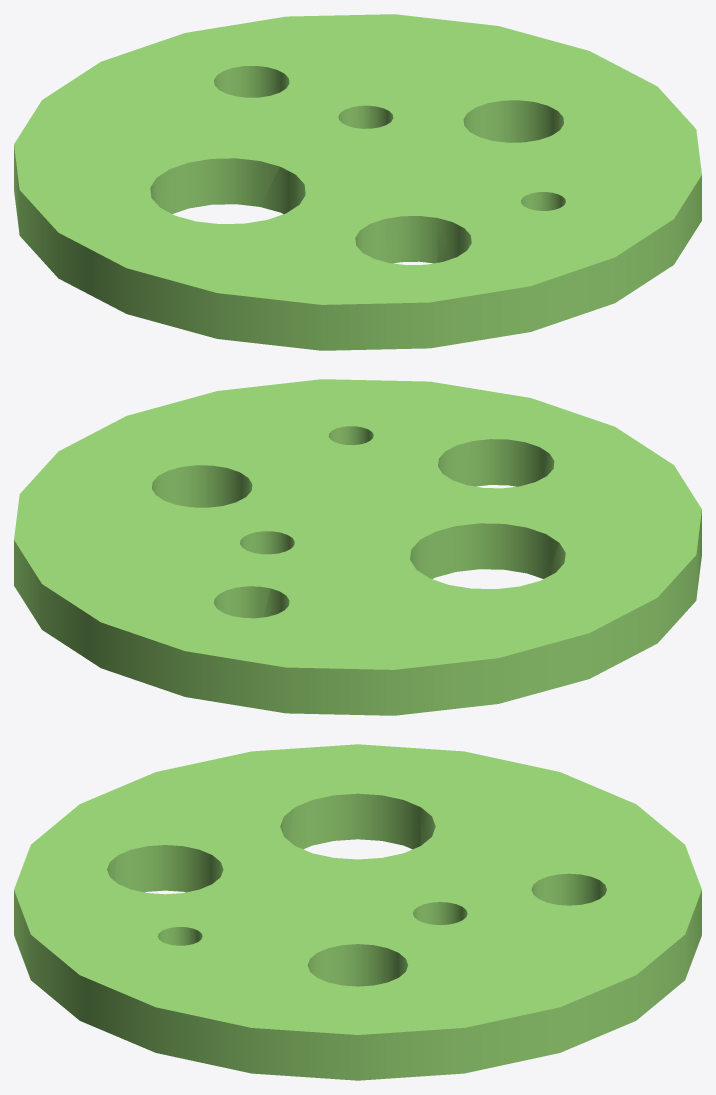
Rendered from planet2_glow.fbx.
3 views of the same model, one above another, from view 1: azimuth 30°, elevation 25°; view 2: azimuth 150°, elevation 25°; view 3: azimuth 270°, elevation 25° (orthographic).
Visible parts, largest first — view 1: pCylinder13; view 2: pCylinder13; view 3: pCylinder13.
Part boxes in pixels (left/top/right/bottom): pCylinder13: left=14, top=14, right=701, bottom=350; pCylinder13: left=14, top=379, right=701, bottom=715; pCylinder13: left=14, top=744, right=701, bottom=1080.
Size of the model in its own units: 13.67 by 1 by 13.67.
